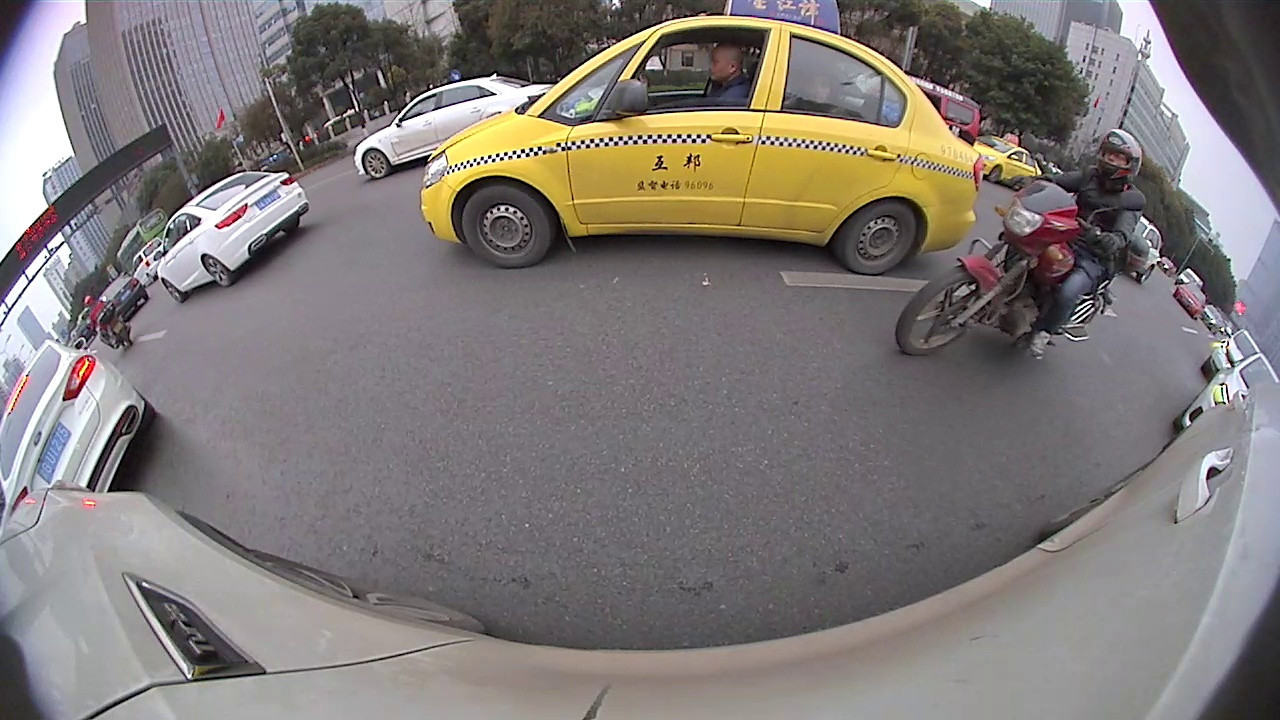car: (420, 1, 978, 274), (2, 344, 153, 504), (354, 79, 559, 178), (157, 169, 307, 303), (1178, 356, 1279, 430), (976, 133, 1038, 185), (1204, 331, 1261, 376), (102, 278, 147, 318), (130, 238, 163, 284)
front: (895, 267, 992, 357), (459, 182, 556, 269), (360, 146, 392, 183), (162, 278, 186, 305)
rear: (843, 204, 920, 274), (201, 252, 233, 289), (1138, 264, 1156, 283)
rider: (896, 128, 1143, 359), (86, 299, 128, 346)
